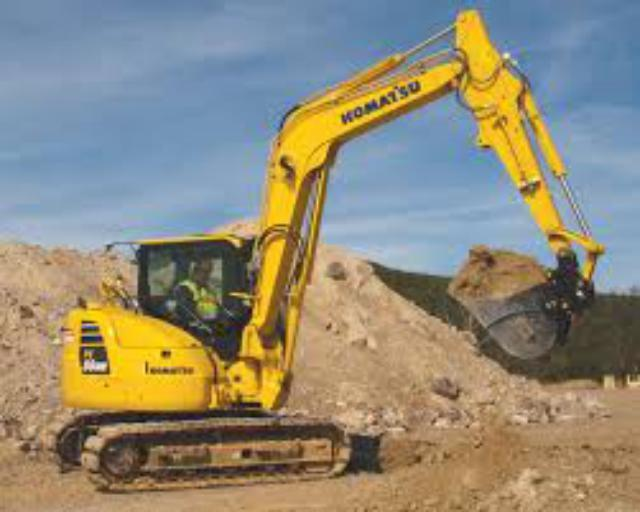excavator: (61, 13, 582, 461)
